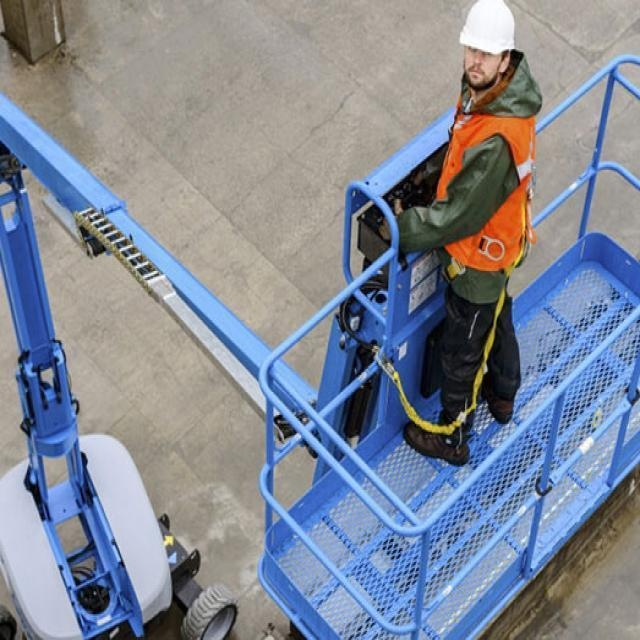Arnes_seguridad: (436, 110, 533, 266)
